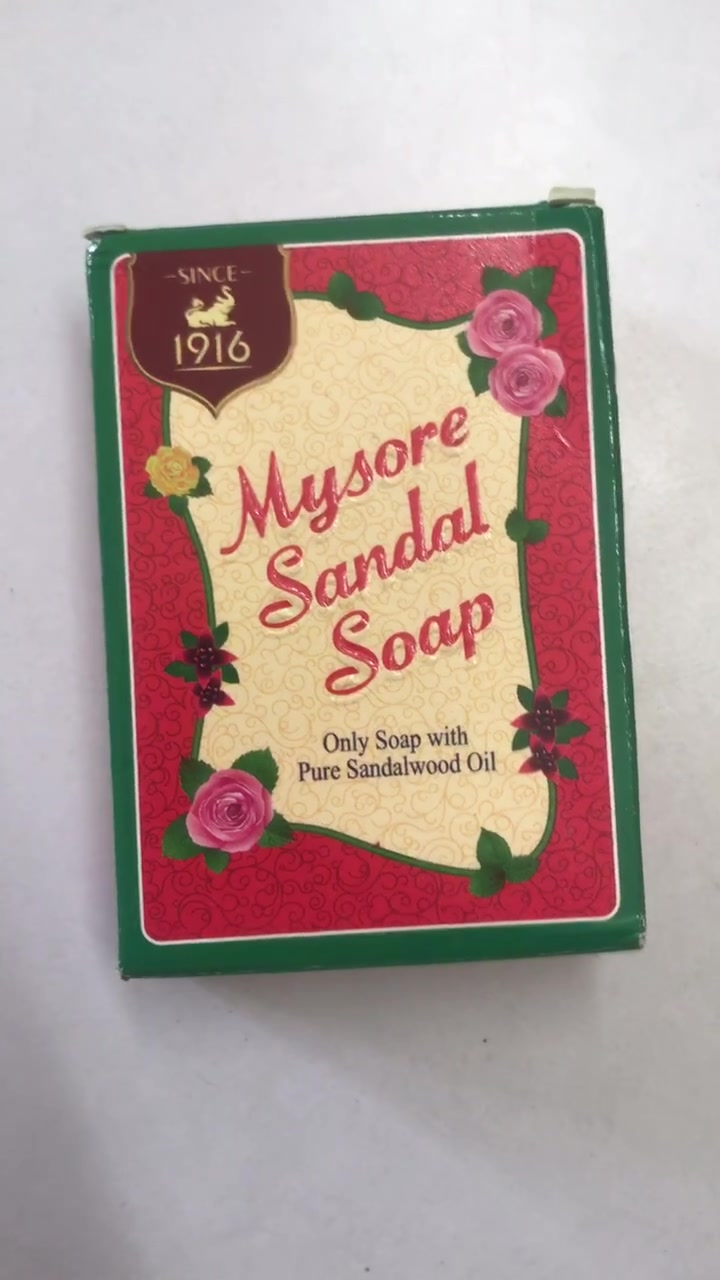mysore sandal soap: (89, 209, 658, 984)
